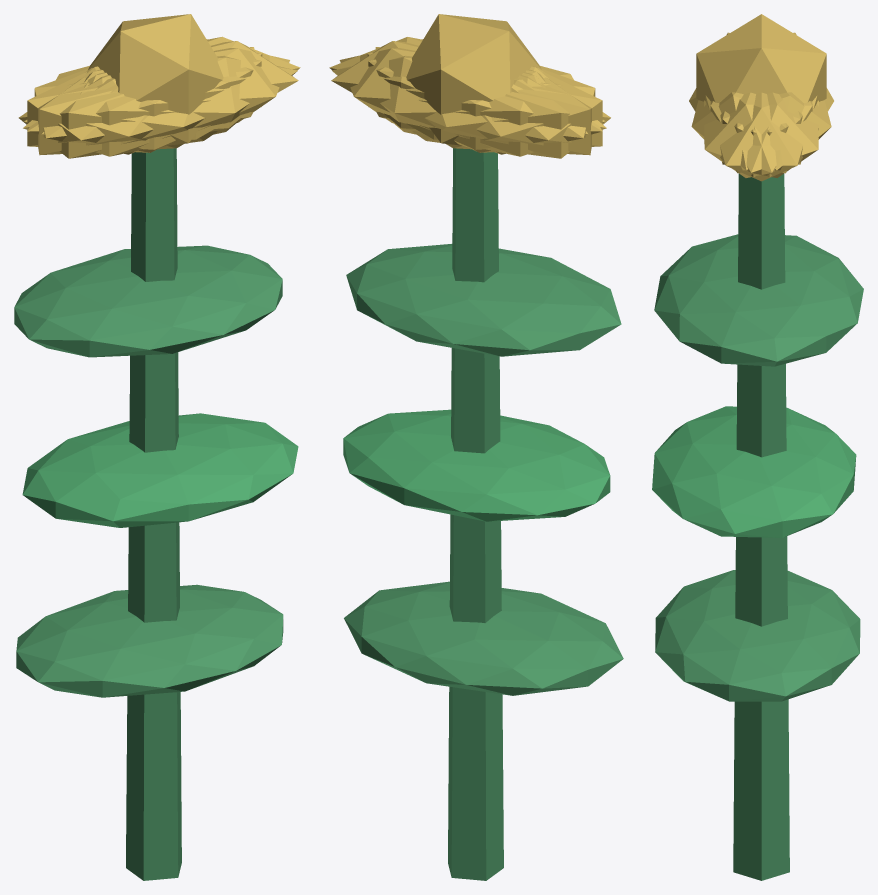
The model's file is lemna-aequinoctialis.glb.
The picture shows the model from 3 angles, left to right: view 1: azimuth 30°, elevation 25°; view 2: azimuth 150°, elevation 25°; view 3: azimuth 270°, elevation 25°; orthographic projection.
Parts seen in each view (by area): view 1: stem, leaf1, leaf2, leaf0, center, petal1, petal6, petal2, petal5, petal7, petal0, petal4 (+2 smaller); view 2: stem, leaf2, leaf0, leaf1, center, petal8, petal3, petal7, petal4, petal2, petal0, petal5 (+2 smaller); view 3: stem, leaf2, leaf1, leaf0, center, petal0, petal5, petal4, petal1, petal8.
Boxes of the visible parts, x1,y1,x2,y2 form: stem: (126, 148, 181, 880); leaf1: (22, 413, 298, 527); leaf2: (14, 245, 282, 357); leaf0: (16, 584, 283, 697); center: (88, 14, 223, 145); petal1: (23, 55, 297, 156); petal6: (18, 68, 217, 158); petal2: (38, 47, 254, 155); petal5: (41, 48, 289, 149); petal7: (27, 52, 262, 152); petal0: (87, 41, 298, 139); petal4: (24, 36, 300, 131); stem: (448, 148, 503, 880); leaf2: (346, 244, 621, 356); leaf0: (344, 581, 623, 695); leaf1: (343, 409, 610, 521); center: (406, 14, 541, 145); petal8: (332, 55, 606, 156); petal3: (412, 68, 610, 158); petal7: (375, 47, 591, 155); petal4: (339, 48, 587, 149); petal2: (367, 52, 602, 152); petal0: (331, 41, 541, 139); petal5: (329, 37, 605, 131); stem: (733, 173, 789, 880); leaf2: (654, 234, 863, 366); leaf1: (652, 406, 856, 537); leaf0: (655, 570, 860, 701); center: (696, 14, 826, 102); petal0: (705, 92, 817, 181); petal5: (704, 92, 812, 177); petal4: (710, 92, 819, 177); petal1: (691, 92, 802, 170); petal8: (720, 92, 831, 170).
Size of the model in its own units: 0.1485 by 0.4341 by 0.0996.
